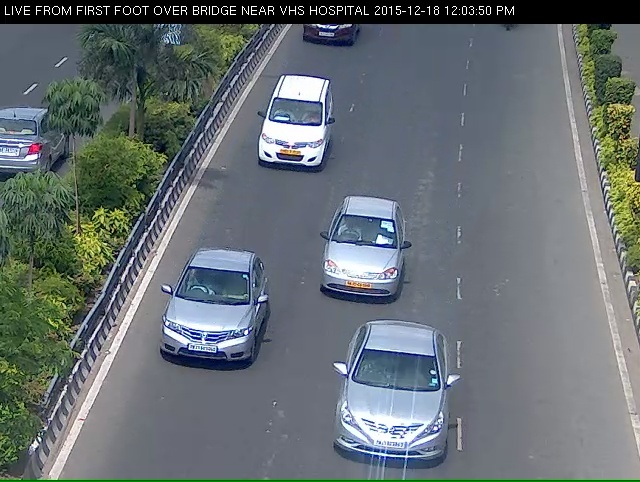Car: (331, 348, 458, 475), (150, 283, 267, 385), (311, 215, 408, 319), (249, 86, 326, 182), (289, 23, 357, 49)
